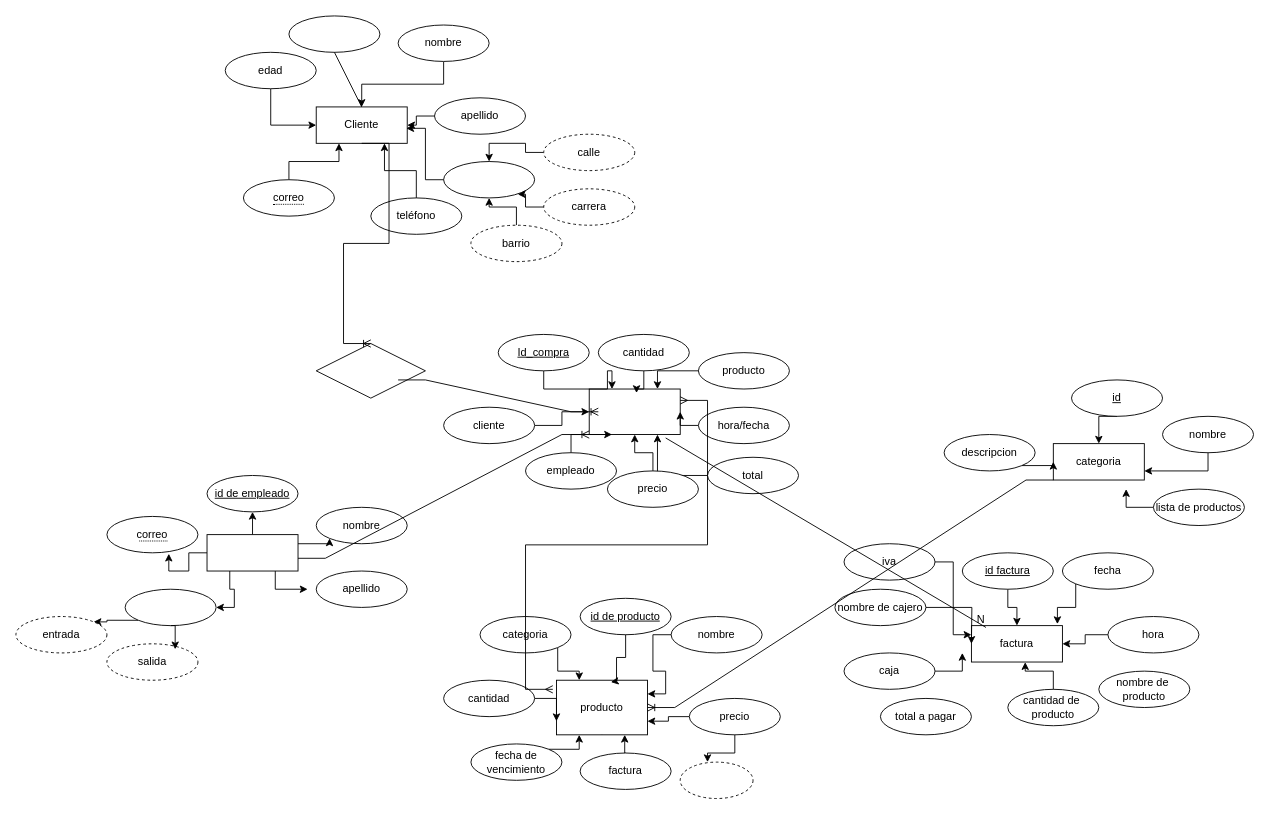
The diagram is 1269 pixels wide and 814 high, and some of its shapes have lost their labels. The centre of each missing label's shape, as x and y in pixels:
"cajero" goes at point 252,552.
"compra" goes at point 634,411.
"descuento" goes at point 716,780.
"dirección" goes at point 489,179.
"horarios" goes at point 170,607.
"identificación" goes at point 334,33.
"realiza" goes at point 370,370.
